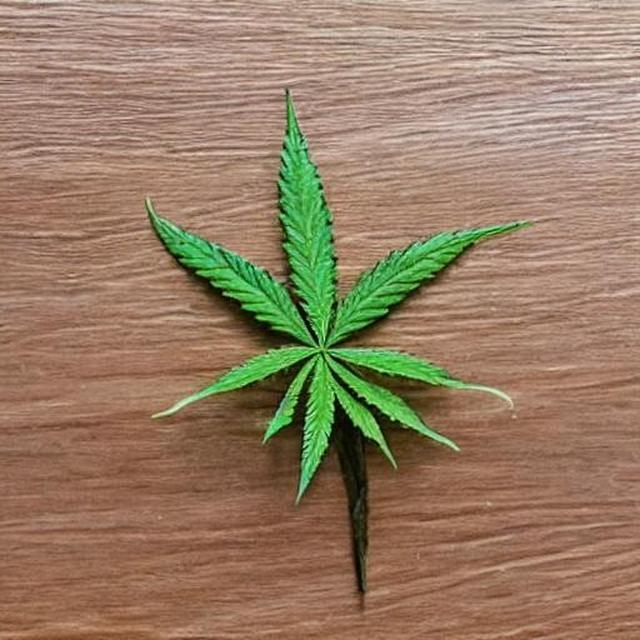Marijuana Leaf: (142, 86, 536, 595)
